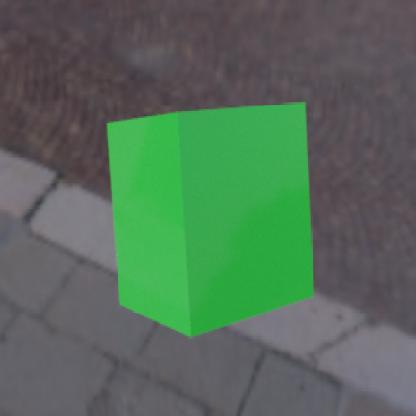cube: (106, 100, 314, 336)
